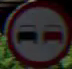No overtake: (5, 2, 68, 60)
